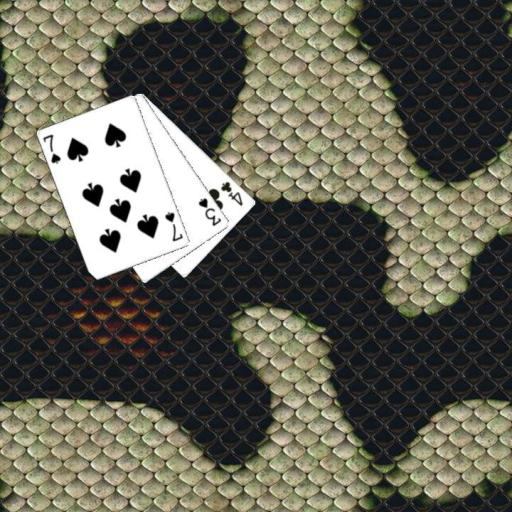3S: (196, 195, 223, 227)
4C: (218, 178, 245, 207)
7S: (40, 131, 63, 166), (162, 209, 185, 243)
